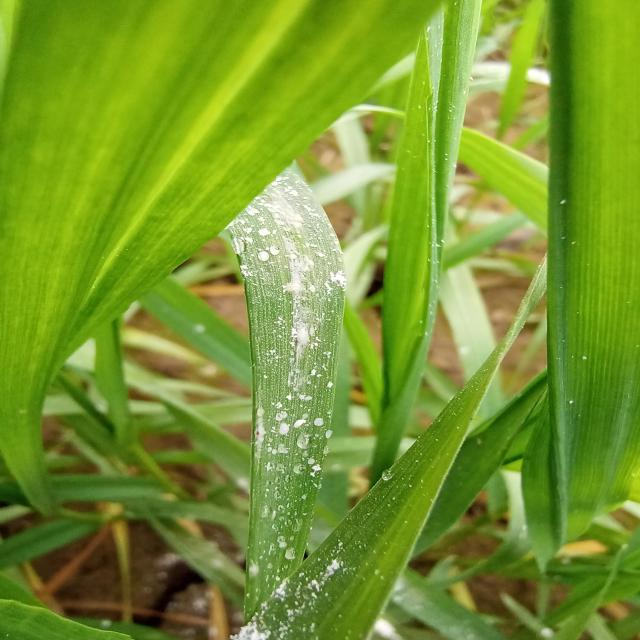Powdery Mildew: (211, 162, 346, 640)
